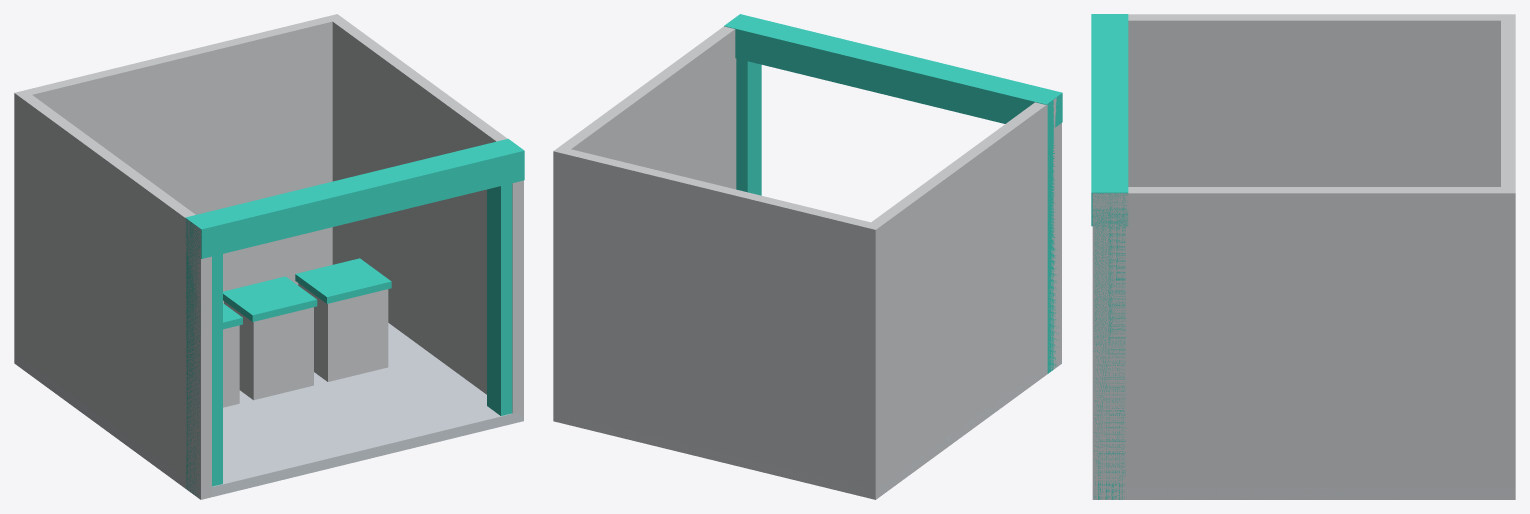
3 views of the same model, side by side, from view 1: azimuth 30°, elevation 25°; view 2: azimuth 150°, elevation 25°; view 3: azimuth 270°, elevation 25° (orthographic). The views are drawn at different scales.
Visible parts, largest first — view 1: Exhibition Booth Concept; view 2: Exhibition Booth Concept; view 3: Exhibition Booth Concept.
Part boxes in pixels (x1,y1,x2,y2): Exhibition Booth Concept: (14, 14, 524, 499); Exhibition Booth Concept: (553, 14, 1062, 499); Exhibition Booth Concept: (1091, 14, 1515, 499).
Size of the model in its own units: 4 by 3.2 by 4.02.
